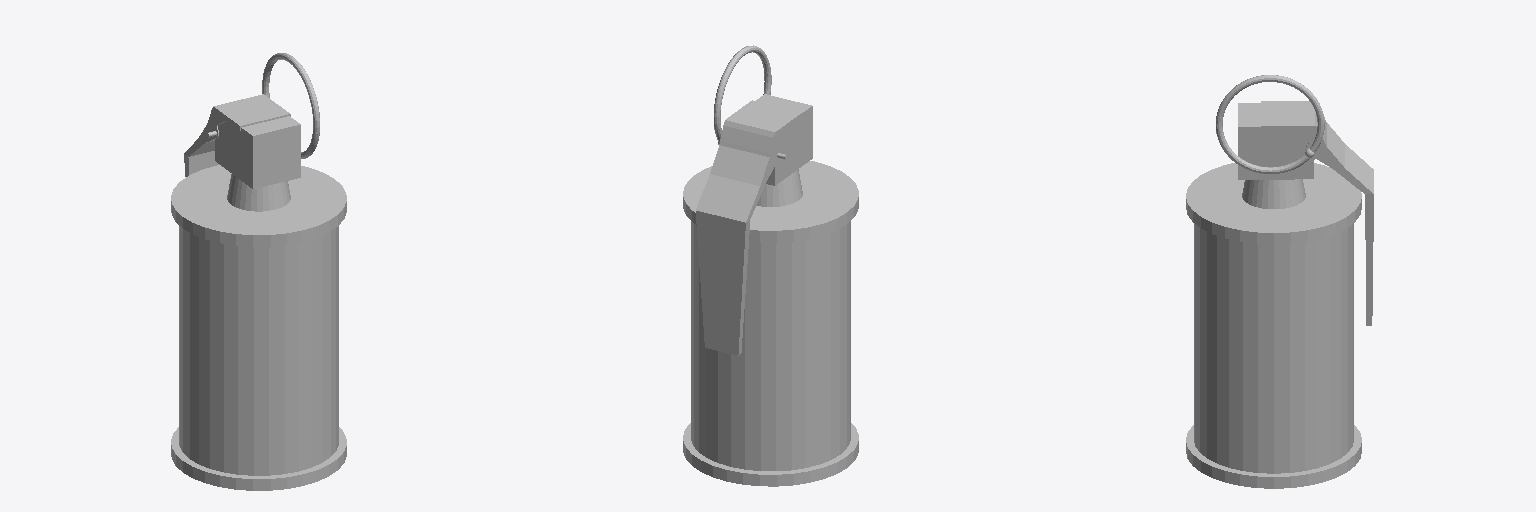
File: Smoke Grenade.obj
3 renders of one model, left to right at view 1: azimuth 30°, elevation 25°; view 2: azimuth 150°, elevation 25°; view 3: azimuth 270°, elevation 25°, orthographic.
Visible parts, largest first — view 1: Smoke_Grenade, Smoke_Grenade_Spoon, Smoke_Grenade_Pin; view 2: Smoke_Grenade, Smoke_Grenade_Spoon, Smoke_Grenade_Pin; view 3: Smoke_Grenade, Smoke_Grenade_Spoon, Smoke_Grenade_Pin.
Boxes of the visible parts, x1=… form: Smoke_Grenade: x1=171, y1=116, x2=346, y2=490; Smoke_Grenade_Spoon: x1=184, y1=94, x2=290, y2=176; Smoke_Grenade_Pin: x1=206, y1=53, x2=319, y2=158; Smoke_Grenade: x1=683, y1=94, x2=858, y2=486; Smoke_Grenade_Spoon: x1=696, y1=100, x2=801, y2=355; Smoke_Grenade_Pin: x1=714, y1=45, x2=787, y2=159; Smoke_Grenade: x1=1186, y1=103, x2=1361, y2=488; Smoke_Grenade_Spoon: x1=1261, y1=101, x2=1373, y2=325; Smoke_Grenade_Pin: x1=1216, y1=75, x2=1324, y2=173.
Bounding box in the file's own units: 1.6 × 3.92 × 1.71.